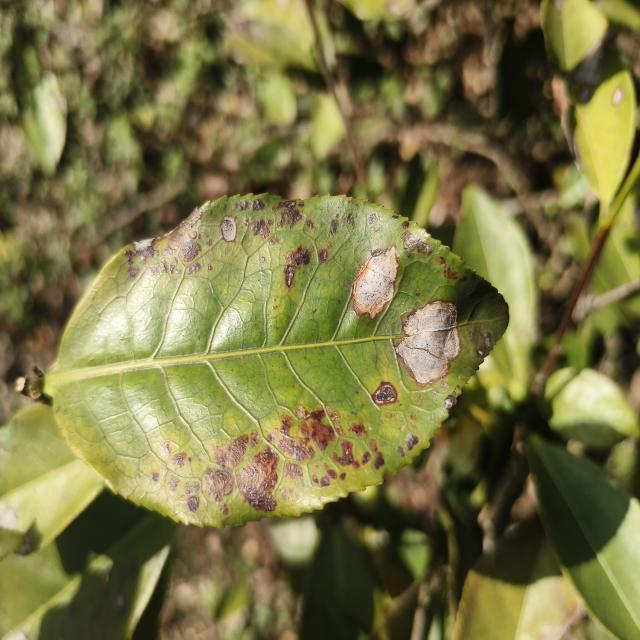Leaf: (46, 193, 508, 526), (0, 490, 177, 640), (527, 436, 640, 640), (540, 0, 637, 222), (453, 186, 536, 402), (0, 403, 104, 559), (453, 519, 583, 640), (301, 523, 373, 640), (544, 367, 638, 448), (23, 73, 67, 174)
